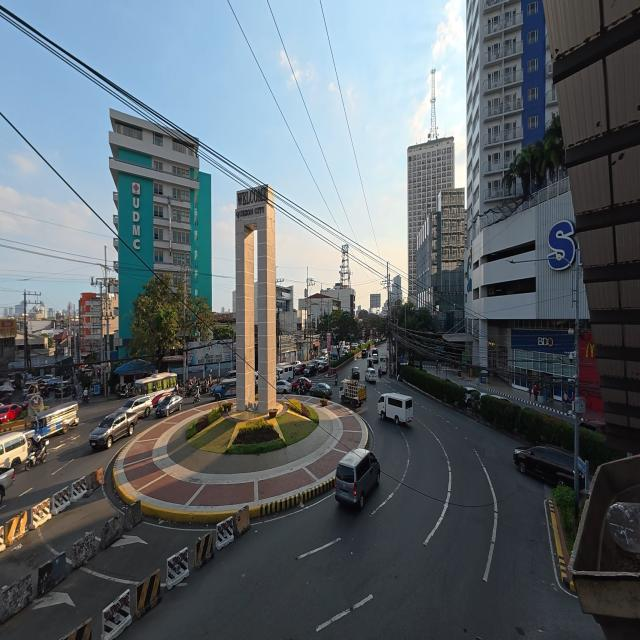car: (152, 394, 182, 419)
trucks: (91, 411, 139, 450)
vans: (333, 449, 380, 514)
